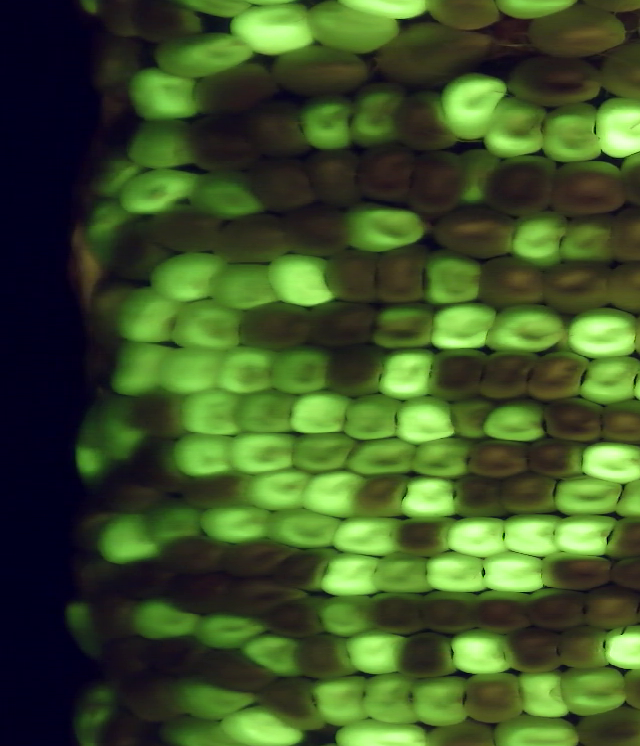fluorescent: (438, 64, 515, 151), (225, 1, 329, 62), (148, 23, 257, 81), (300, 1, 409, 59), (336, 197, 434, 259), (143, 246, 238, 308), (121, 62, 210, 128), (342, 78, 414, 155), (164, 670, 265, 723), (416, 243, 492, 313), (62, 397, 118, 491), (113, 163, 206, 219), (481, 92, 554, 162), (538, 96, 608, 169), (111, 283, 188, 349), (185, 164, 270, 223), (262, 248, 341, 311), (80, 191, 140, 273), (562, 302, 640, 365), (87, 389, 151, 465), (123, 112, 205, 171), (505, 207, 577, 274), (53, 597, 114, 676), (165, 297, 248, 355), (106, 334, 177, 401), (205, 259, 288, 316), (256, 504, 349, 554), (485, 304, 571, 357), (294, 89, 360, 157), (295, 467, 371, 526), (223, 383, 303, 439), (215, 698, 308, 746), (194, 499, 284, 548), (153, 341, 229, 399), (556, 663, 634, 719), (137, 495, 211, 554), (187, 609, 277, 657), (92, 509, 165, 568), (372, 341, 440, 404), (235, 629, 310, 686), (369, 299, 446, 354), (425, 298, 500, 354), (221, 429, 305, 479), (284, 383, 355, 442), (175, 384, 251, 439), (405, 670, 475, 729), (264, 340, 335, 398), (555, 210, 624, 269), (209, 340, 278, 399), (359, 672, 429, 730), (239, 463, 315, 515), (445, 627, 518, 681), (305, 672, 375, 728), (488, 704, 581, 746), (125, 597, 208, 644), (550, 471, 628, 521), (287, 428, 364, 478), (85, 150, 148, 211), (500, 508, 567, 565), (340, 432, 423, 478), (447, 140, 501, 210), (480, 396, 553, 447), (316, 548, 385, 601), (476, 549, 552, 597), (575, 352, 640, 408), (390, 392, 460, 444), (165, 427, 235, 479), (550, 509, 621, 559), (325, 511, 398, 559), (314, 590, 382, 641), (327, 714, 435, 746), (342, 626, 407, 679), (405, 432, 475, 481), (339, 391, 406, 442), (395, 471, 463, 521), (445, 513, 517, 560), (575, 436, 640, 488), (155, 707, 240, 746), (421, 549, 490, 597), (369, 549, 434, 599), (593, 91, 640, 160), (514, 666, 573, 720), (58, 698, 120, 746), (595, 620, 640, 673), (445, 397, 493, 444), (68, 680, 126, 709)
nonfluorescent: (371, 17, 503, 96), (262, 40, 375, 102), (505, 50, 609, 115), (524, 2, 633, 64), (422, 198, 520, 262), (180, 109, 267, 179), (395, 145, 476, 219), (478, 149, 562, 219), (546, 154, 633, 220), (187, 59, 282, 119), (535, 255, 621, 321), (389, 86, 464, 159), (241, 89, 313, 165), (205, 209, 299, 267), (118, 431, 199, 498), (80, 456, 171, 515), (234, 296, 319, 359), (472, 249, 550, 317), (300, 292, 384, 355), (240, 152, 323, 215), (110, 669, 195, 730), (368, 238, 439, 309), (255, 673, 331, 738), (316, 336, 394, 399), (520, 343, 593, 410), (352, 134, 417, 209), (456, 666, 532, 730), (117, 385, 195, 447), (105, 218, 177, 285), (143, 202, 227, 259), (302, 144, 373, 211), (278, 199, 353, 262), (62, 137, 115, 225), (216, 574, 315, 621), (165, 570, 249, 625), (76, 273, 135, 351), (423, 340, 493, 405), (495, 621, 571, 680), (194, 645, 283, 694), (102, 551, 177, 609), (470, 345, 542, 405), (58, 549, 130, 609), (287, 629, 364, 685), (321, 243, 387, 308), (85, 630, 157, 689), (537, 392, 610, 450), (359, 586, 435, 641), (144, 631, 220, 686), (60, 496, 124, 561), (154, 531, 244, 577), (174, 465, 260, 513), (341, 468, 416, 523), (460, 430, 537, 483), (518, 585, 598, 636), (464, 588, 542, 639), (414, 586, 489, 639), (262, 541, 337, 594), (537, 548, 619, 596), (393, 629, 464, 684), (213, 537, 303, 580), (251, 596, 330, 644), (85, 32, 145, 95), (76, 314, 125, 390), (81, 589, 145, 645), (385, 514, 462, 560), (127, 1, 207, 45), (495, 468, 563, 519), (552, 622, 615, 677), (520, 433, 589, 482), (578, 579, 640, 633), (445, 470, 509, 521), (566, 702, 640, 746), (595, 39, 640, 110), (420, 1, 505, 38), (88, 78, 131, 150), (594, 395, 640, 452), (599, 256, 640, 319), (604, 199, 640, 266), (601, 510, 640, 566), (93, 1, 145, 41), (608, 547, 640, 597)
